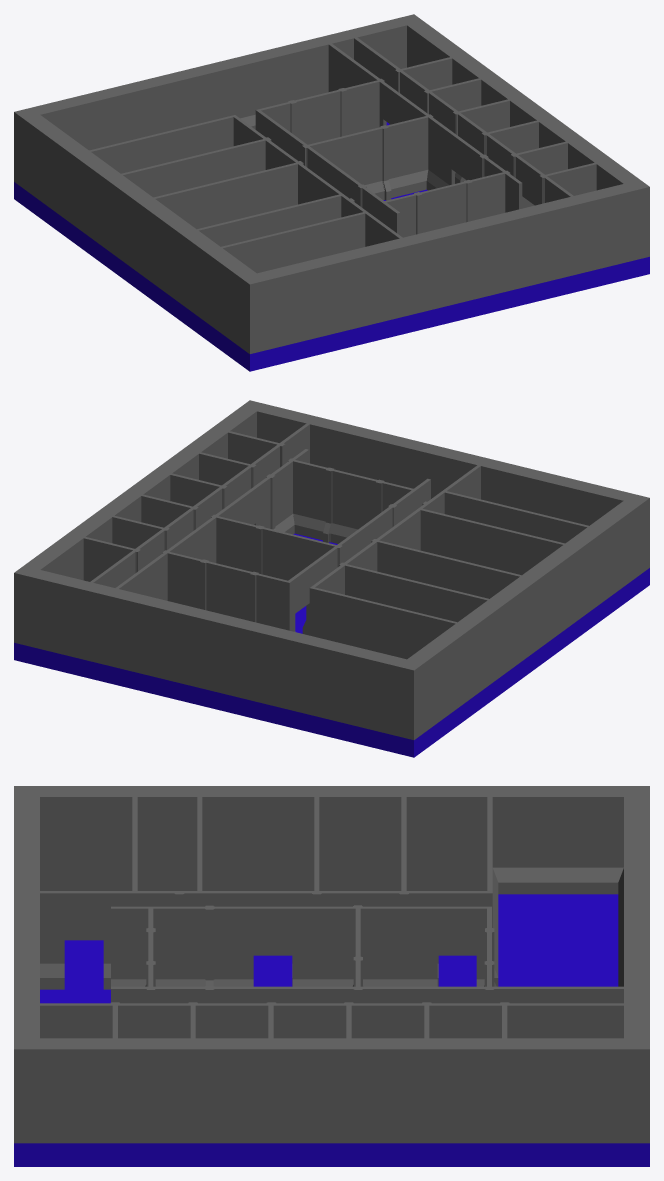
File: Flat3.FBX
3 renders of one model, top to bottom at view 1: azimuth 30°, elevation 25°; view 2: azimuth 150°, elevation 25°; view 3: azimuth 270°, elevation 25°, orthographic. The views are drawn at different scales.
Parts seen in each view (by area): view 1: ExternalWallDown, ExternalWallUp, ExternalWallLeft, Floor, ExternalWallRight, VerticalWall2, PublicWall1, OfficeWall3, VerticalWall1, OfficeWall1, LibraryWall, OfficeWall5 (+12 smaller); view 2: ExternalWallUp, ExternalWallLeft, ExternalWallDown, Floor, ExternalWallRight, OfficeWall4, LibraryWall, VerticalWall2, HallWall, OfficeWall2, VerticalWall1, PublicWall1 (+12 smaller); view 3: ExternalWallRight, ExternalWallLeft, Floor, VerticalWall3, VerticalWall1, VerticalWall4, ExternalWallUp, ExternalWallDown, VerticalWall2, OfficeWall4, Buttress008, OfficeWall5 (+3 smaller).
Boxes of the visible parts, left/top/right/bottom form: ExternalWallDown: left=240, top=180, right=649, bottom=353; ExternalWallUp: left=14, top=14, right=423, bottom=189; ExternalWallLeft: left=23, top=115, right=256, bottom=346; Floor: left=14, top=122, right=649, bottom=371; ExternalWallRight: left=407, top=21, right=639, bottom=190; VerticalWall2: left=328, top=43, right=522, bottom=212; PublicWall1: left=308, top=116, right=428, bottom=199; OfficeWall3: left=153, top=163, right=297, bottom=229; VerticalWall1: left=351, top=34, right=578, bottom=208; OfficeWall1: left=221, top=212, right=365, bottom=273; LibraryWall: left=259, top=80, right=379, bottom=144; OfficeWall5: left=119, top=139, right=266, bottom=197; ExternalWallUp: left=14, top=566, right=425, bottom=739; ExternalWallLeft: left=407, top=501, right=640, bottom=731; ExternalWallDown: left=240, top=400, right=649, bottom=574; Floor: left=14, top=533, right=649, bottom=757; ExternalWallRight: left=24, top=407, right=256, bottom=580; OfficeWall4: left=310, top=587, right=457, bottom=659; LibraryWall: left=167, top=552, right=289, bottom=630; VerticalWall2: left=115, top=449, right=308, bottom=600; HallWall: left=293, top=460, right=414, bottom=543; OfficeWall2: left=419, top=508, right=564, bottom=575; VerticalWall1: left=85, top=420, right=312, bottom=587; PublicWall1: left=216, top=516, right=336, bottom=580; ExternalWallRight: left=39, top=1038, right=623, bottom=1143; ExternalWallLeft: left=39, top=786, right=623, bottom=894; Floor: left=14, top=894, right=649, bottom=1166; VerticalWall3: left=111, top=906, right=491, bottom=986; VerticalWall1: left=27, top=1003, right=634, bottom=1038; VerticalWall4: left=37, top=891, right=498, bottom=989; ExternalWallUp: left=618, top=786, right=649, bottom=1143; ExternalWallDown: left=14, top=786, right=39, bottom=1143; VerticalWall2: left=111, top=986, right=624, bottom=1003; OfficeWall4: left=487, top=796, right=498, bottom=977; Buttress008: left=205, top=905, right=214, bottom=986; OfficeWall5: left=401, top=796, right=406, bottom=891.
Bounding box in the file's own units: 24 × 5 × 24.5.
